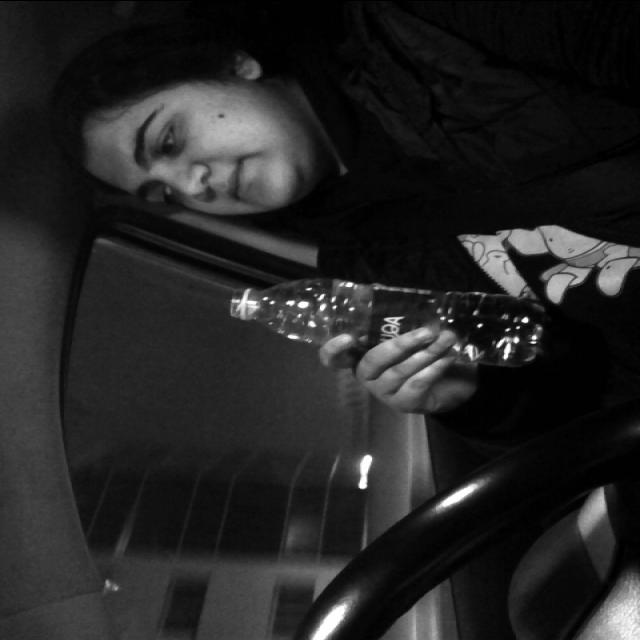drinking: (225, 276, 548, 370)
